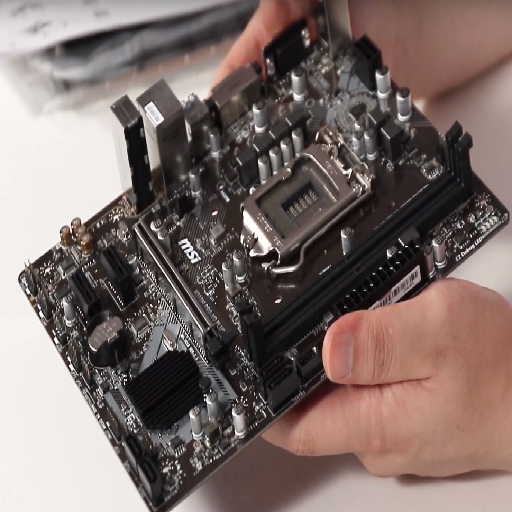CPU: (238, 126, 379, 282)
GPU: (129, 221, 225, 358)
MOTHERBOARD: (16, 15, 510, 512)
RAM: (232, 123, 476, 386)
